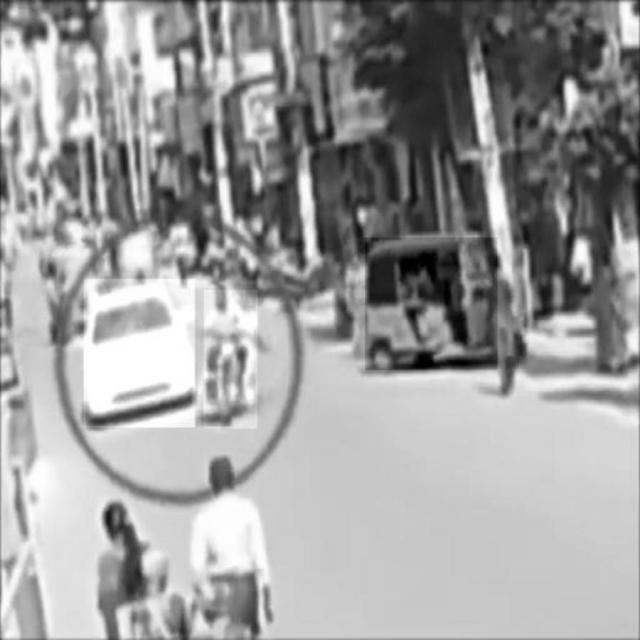vehicle: (365, 237, 497, 369), (84, 279, 195, 427), (204, 290, 258, 428)
